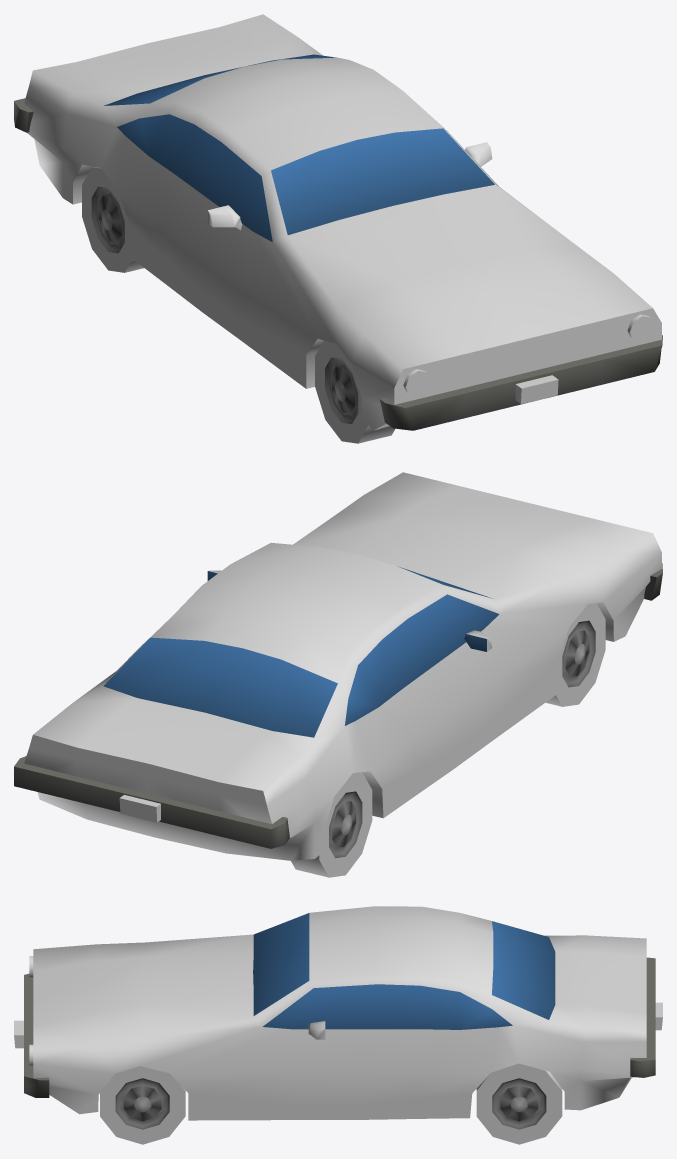
3 renders of one model, top to bottom at view 1: azimuth 30°, elevation 25°; view 2: azimuth 150°, elevation 25°; view 3: azimuth 270°, elevation 25°, orthographic. The views are drawn at different scales.
Parts seen in each view (by area): view 1: color.082; view 2: color.082; view 3: color.082.
Boxes of the visible parts, x1,y1,x2,y2 form: color.082: (14, 14, 662, 443); color.082: (14, 472, 662, 877); color.082: (14, 906, 662, 1144).
Bounding box in the file's own units: 0.2006 × 0.1406 × 0.5.
